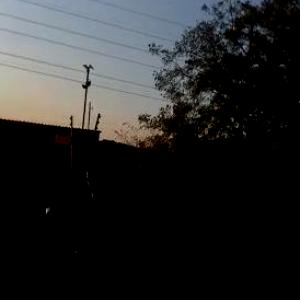follow: (35, 154, 124, 299)
